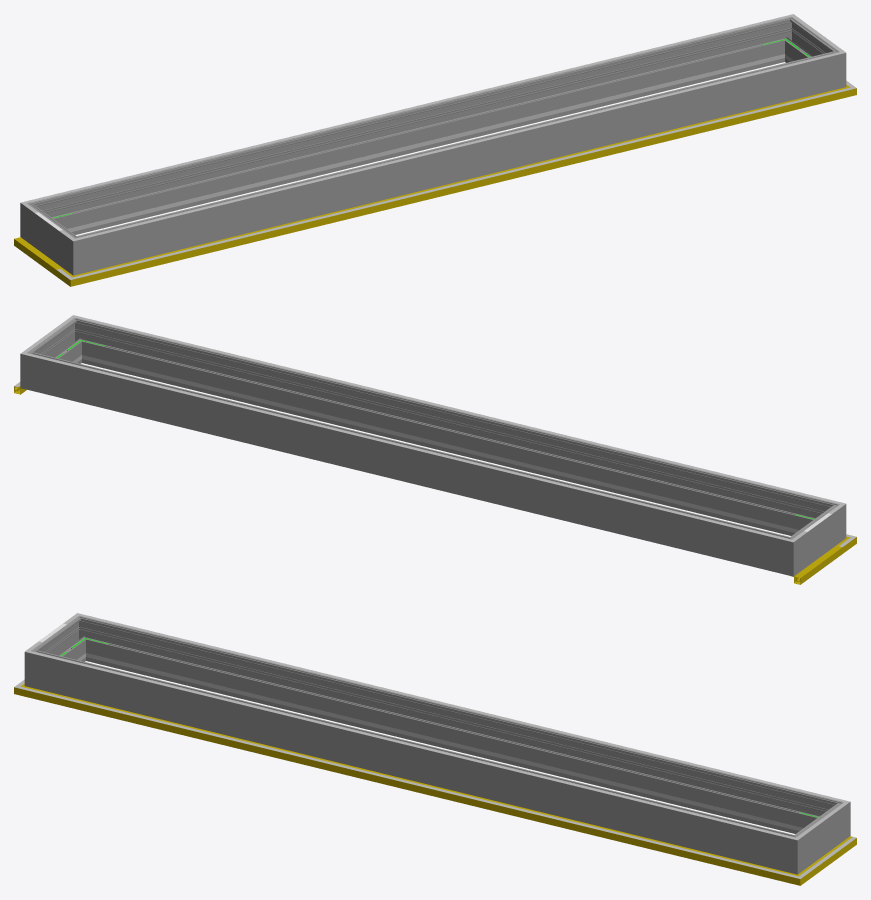
The picture shows the model from 3 angles, top to bottom: view 1: azimuth 30°, elevation 25°; view 2: azimuth 150°, elevation 25°; view 3: azimuth 330°, elevation 25°; orthographic projection.
Visible parts, largest first — view 1: 3DGeom-276, 3DGeom-298, 3DGeom-11, 3DGeom-244, 3DGeom-20, 3DGeom-316, 3DGeom-304, 3DGeom-270, 3DGeom-290, 3DGeom-268, 3DGeom-284, 3DGeom-297 (+1 smaller); view 2: 3DGeom-298, 3DGeom-276, 3DGeom-239, 3DGeom-304, 3DGeom-316, 3DGeom-278, 3DGeom-268, 3DGeom-284, 3DGeom-290, 3DGeom-297, 3DGeom-270; view 3: 3DGeom-276, 3DGeom-298, 3DGeom-11, 3DGeom-244, 3DGeom-20, 3DGeom-316, 3DGeom-304, 3DGeom-290, 3DGeom-270, 3DGeom-297, 3DGeom-278, 3DGeom-268 (+1 smaller).
Part boxes in pixels (x1,y1,x2,y2): 3DGeom-276: (47, 22, 780, 234); 3DGeom-298: (93, 55, 821, 269); 3DGeom-11: (91, 91, 832, 280); 3DGeom-244: (76, 60, 761, 230); 3DGeom-20: (93, 92, 831, 273); 3DGeom-316: (96, 57, 821, 235); 3DGeom-304: (45, 20, 770, 198); 3DGeom-270: (59, 229, 97, 275); 3DGeom-290: (817, 43, 846, 92); 3DGeom-268: (34, 211, 66, 264); 3DGeom-284: (771, 16, 803, 62); 3DGeom-297: (787, 25, 828, 62); 3DGeom-298: (86, 322, 819, 535); 3DGeom-276: (45, 356, 773, 570); 3DGeom-239: (105, 361, 790, 531); 3DGeom-304: (45, 358, 770, 536); 3DGeom-316: (96, 321, 821, 499); 3DGeom-278: (769, 530, 807, 576); 3DGeom-268: (800, 512, 832, 565); 3DGeom-284: (20, 344, 49, 393); 3DGeom-290: (63, 318, 95, 363); 3DGeom-297: (38, 326, 79, 363); 3DGeom-270: (810, 499, 846, 547); 3DGeom-276: (90, 621, 823, 833); 3DGeom-298: (49, 654, 777, 868); 3DGeom-11: (38, 690, 779, 879); 3DGeom-244: (109, 659, 794, 829); 3DGeom-20: (39, 691, 777, 872); 3DGeom-316: (49, 656, 774, 834); 3DGeom-304: (100, 619, 825, 797); 3DGeom-290: (773, 828, 811, 874); 3DGeom-270: (24, 642, 53, 691); 3DGeom-297: (804, 810, 836, 863); 3DGeom-278: (67, 615, 99, 661); 3DGeom-268: (42, 624, 83, 661).
Bounding box in the file's own units: 4.88 × 0.2434 × 0.6096.
